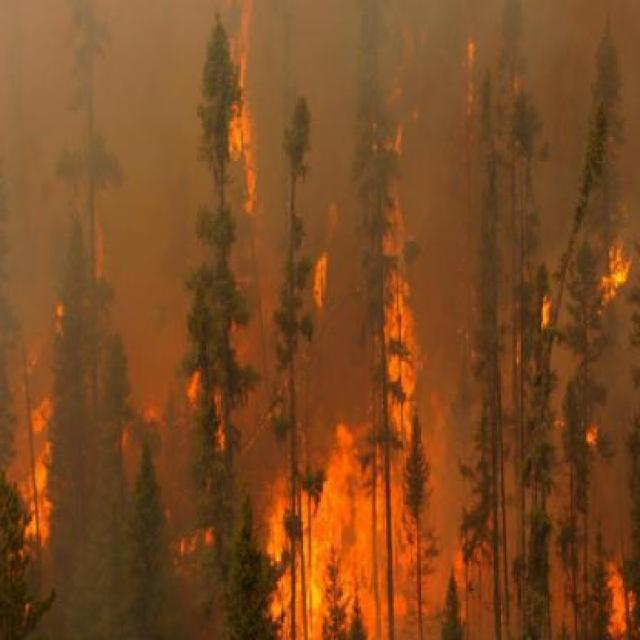Fire: (269, 176, 434, 633), (12, 312, 66, 542), (233, 22, 256, 216), (588, 230, 630, 321), (186, 368, 228, 444), (606, 552, 632, 628), (172, 518, 210, 570), (464, 36, 476, 116), (539, 293, 553, 327), (584, 424, 598, 447)
